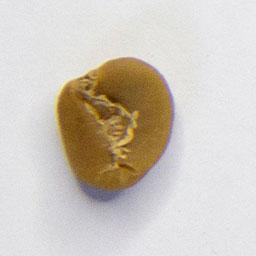defect: (53, 53, 178, 195)
